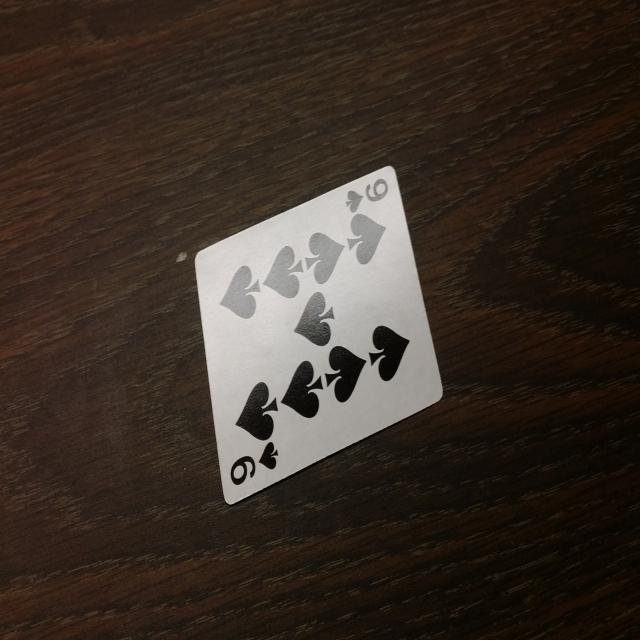9s: (226, 435, 284, 492), (342, 166, 393, 223)
